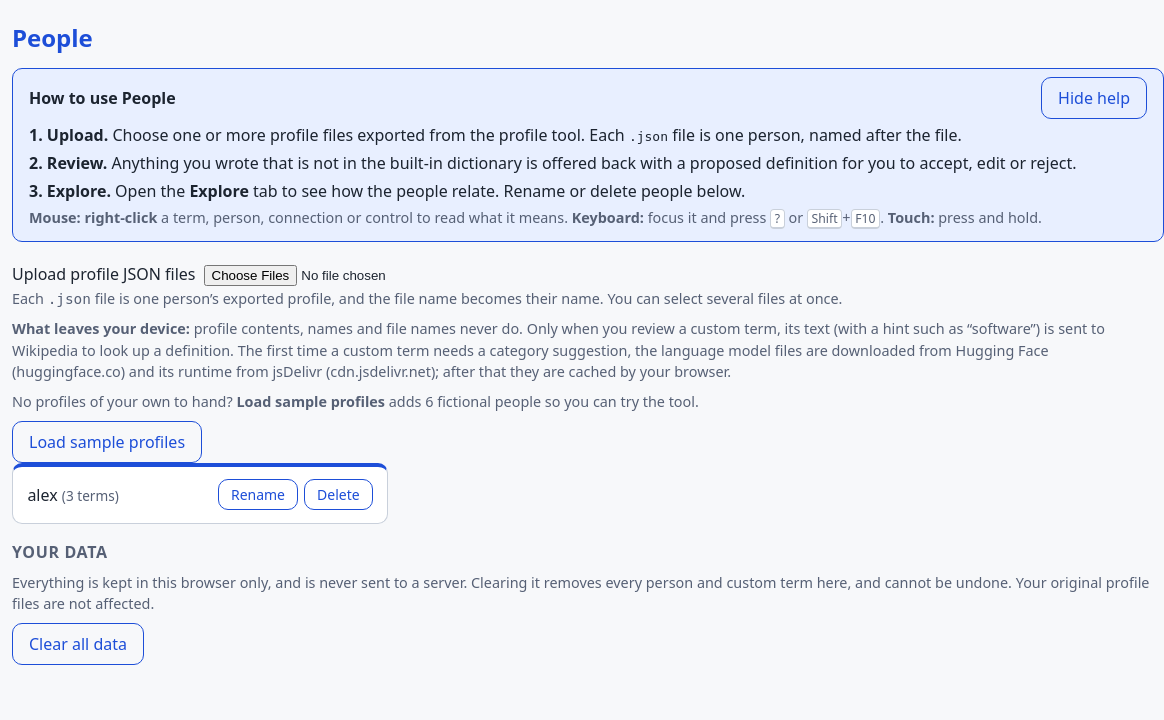
Scenario: Clear all data › shows the empty state after clearing
The width and height of the screenshot is (1164, 720).
Expected: the text "alex" is shown, [27,484,58,506]
Click the button "Clear all data": (78, 644) [12,623,144,665]
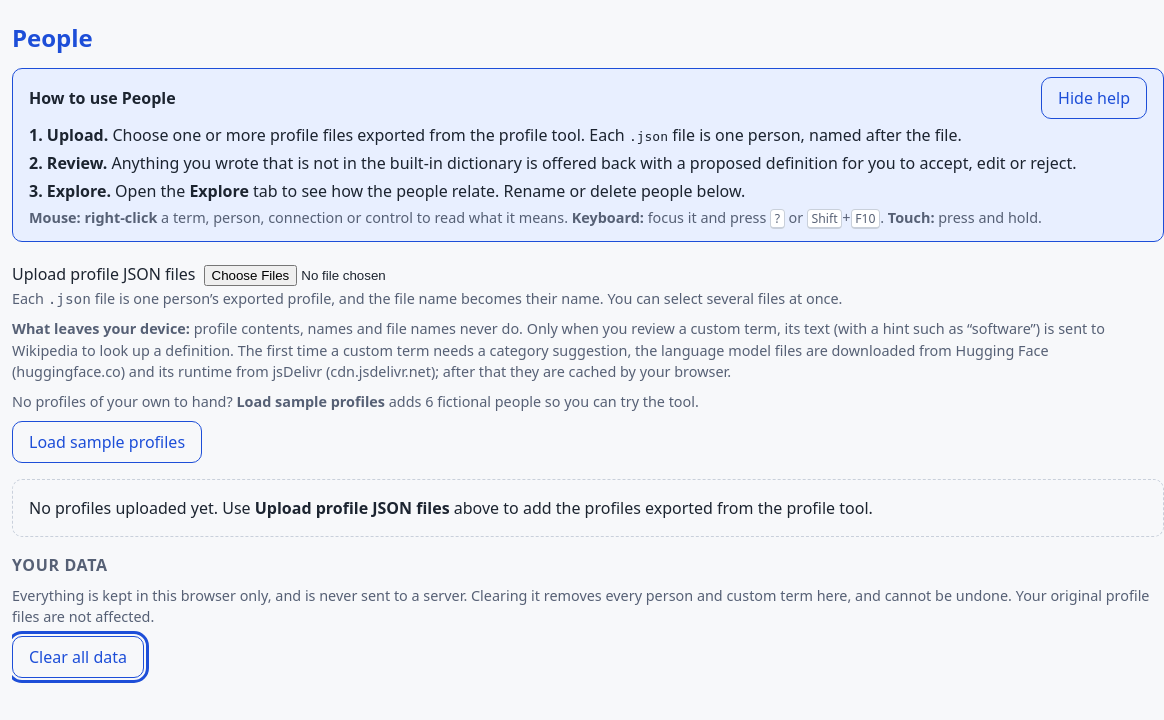
Expected: the text "No profiles uploaded yet" is shown, [29,497,255,519]
